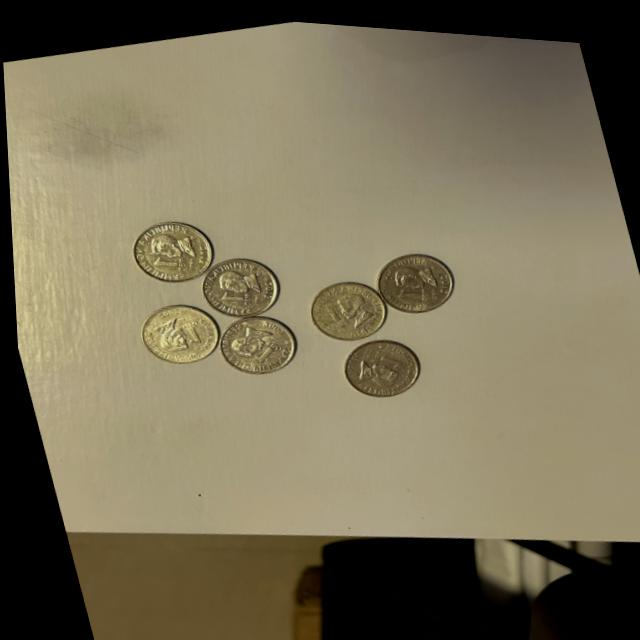1_Old_Front: (246, 331, 282, 367), (144, 245, 187, 275), (174, 310, 206, 348), (212, 279, 252, 308), (362, 338, 397, 368), (389, 274, 425, 302), (317, 294, 345, 328)
